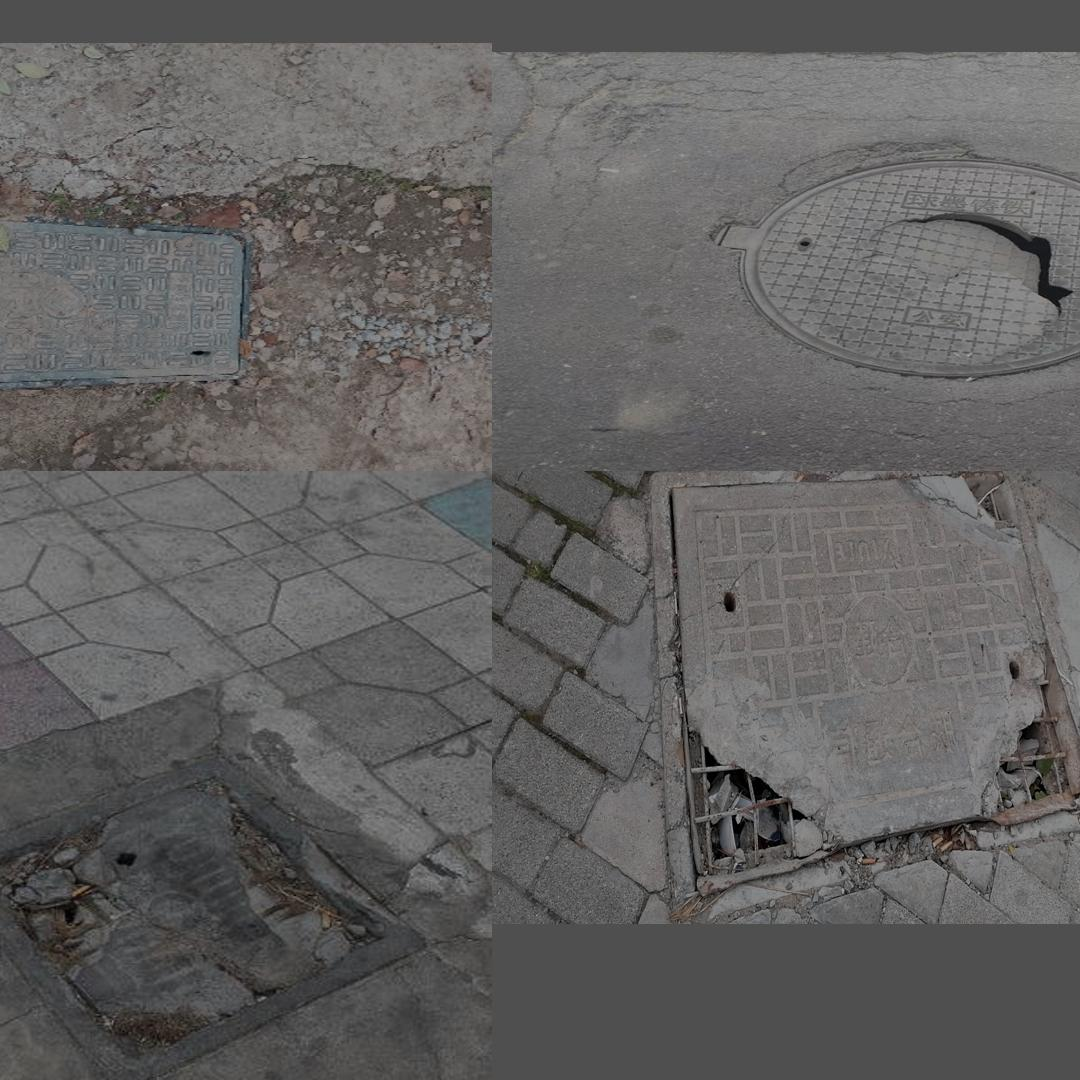broke: (673, 474, 1074, 889), (0, 744, 450, 1080), (724, 150, 1080, 394), (0, 209, 253, 395)
